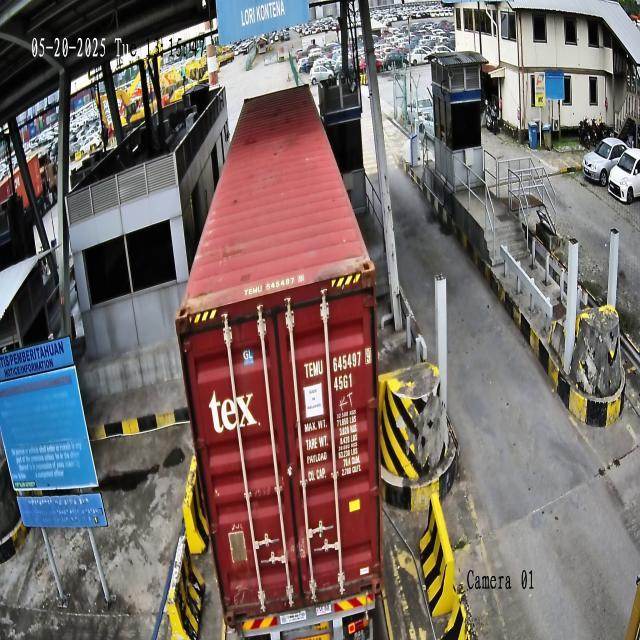ISO: (332, 371, 354, 393)
container_number: (305, 344, 375, 380)
